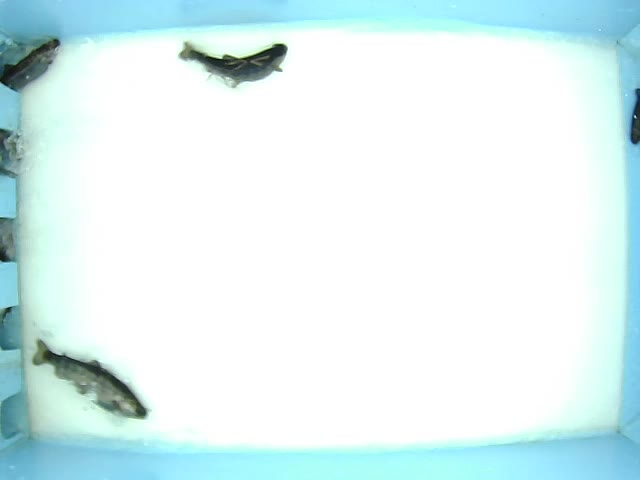fish: (32, 337, 149, 421), (175, 39, 289, 88)
